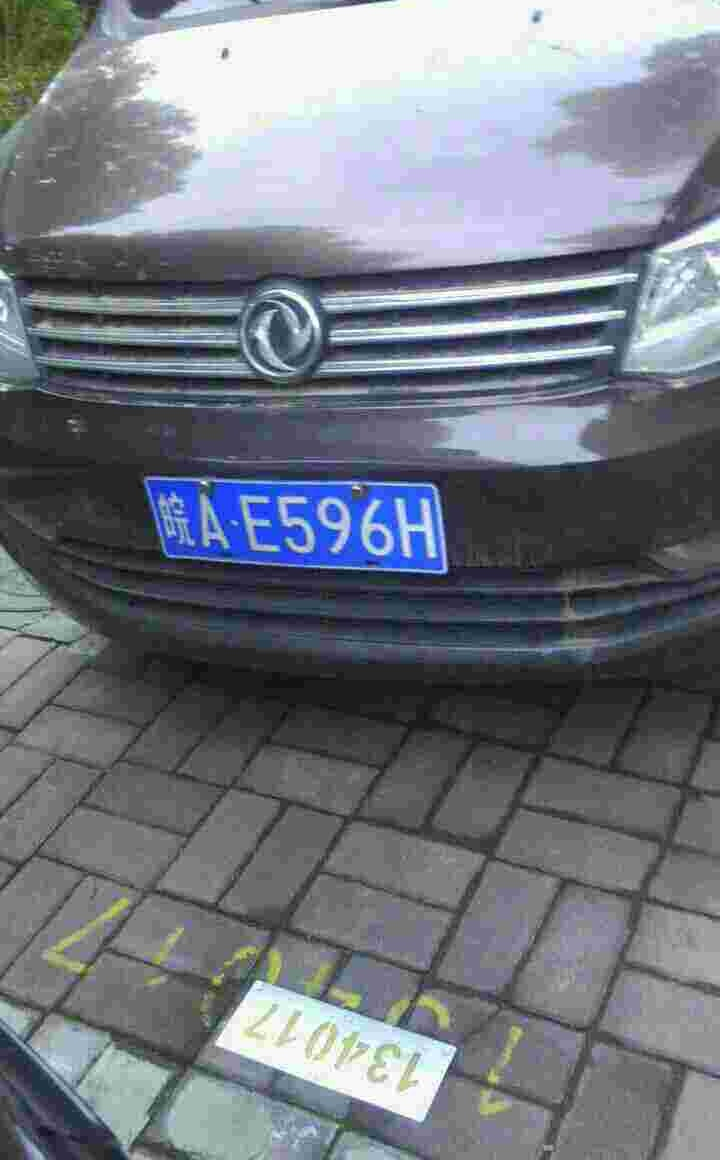license_plate: (146, 475, 446, 577)
